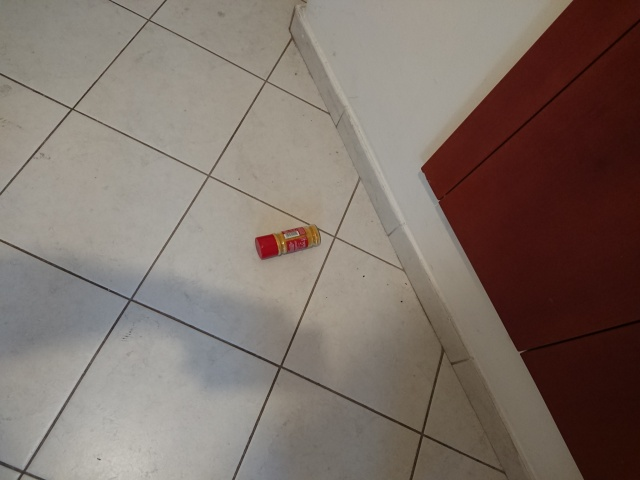Kotanyi Curry Spices Mix 70g: (253, 222, 323, 262)
